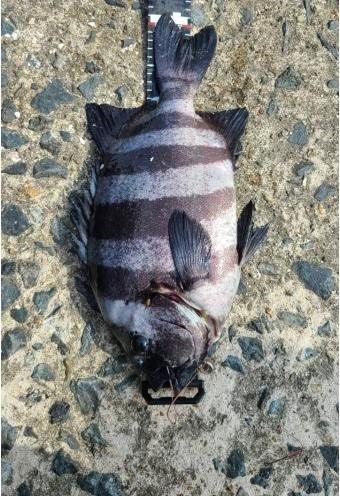fish: (65, 12, 267, 411)
